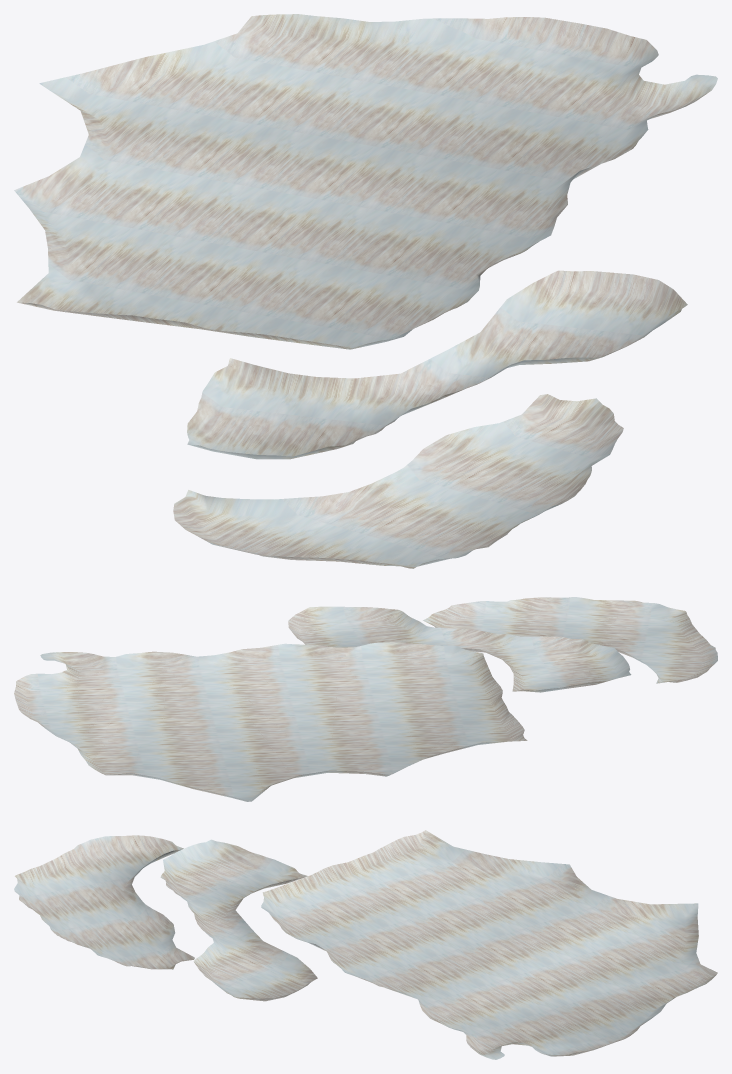
Rendered from M5_T_hedi001.FBX.
The picture shows the model from 3 angles, top to bottom: view 1: azimuth 30°, elevation 25°; view 2: azimuth 150°, elevation 25°; view 3: azimuth 270°, elevation 25°; orthographic projection. The views are drawn at different scales.
Parts seen in each view (by area): view 1: M5_T_hedi001; view 2: M5_T_hedi001; view 3: M5_T_hedi001.
Boxes of the visible parts, <box> form: M5_T_hedi001: <box>14,14,717,568</box>; M5_T_hedi001: <box>14,597,717,801</box>; M5_T_hedi001: <box>14,830,717,1059</box>.
Size of the model in its own units: 5611 by 342 by 6688.
